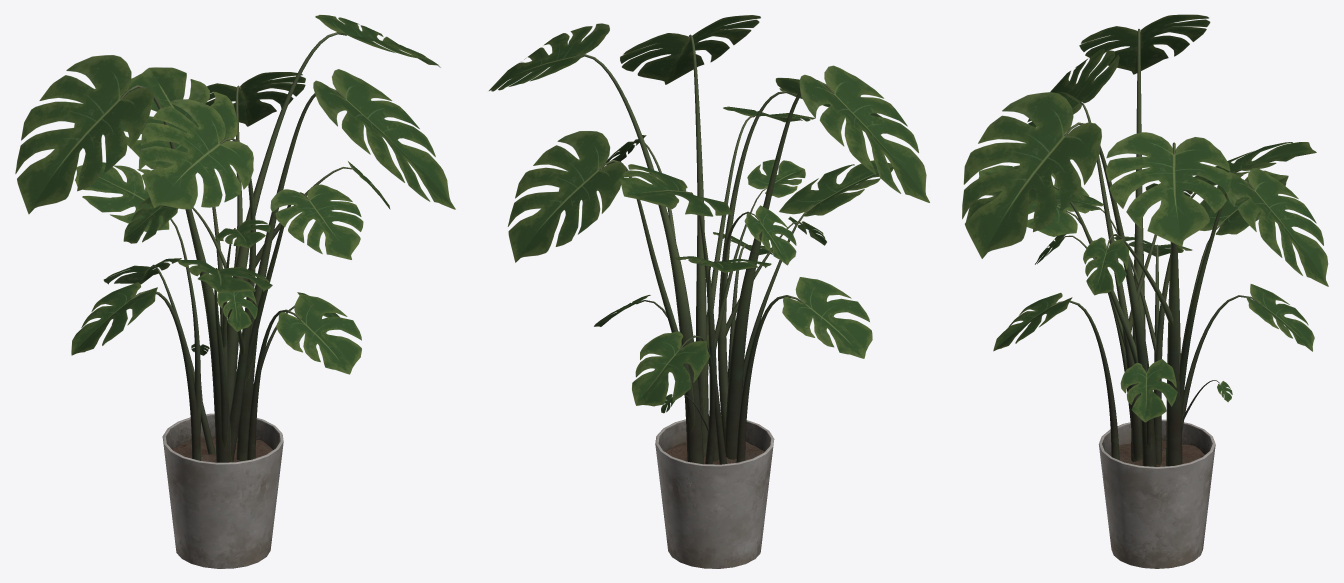
File: monstera_plant.glb
3 renders of one model, left to right at view 1: azimuth 30°, elevation 25°; view 2: azimuth 150°, elevation 25°; view 3: azimuth 270°, elevation 25°, orthographic. The views are drawn at different scales.
Visible parts, largest first — view 1: Monstera_Plant_GEO_Monstera_Leafs1_0, Monstera_Plant_GEO_Monstera_Plant_LowerPart_0; view 2: Monstera_Plant_GEO_Monstera_Leafs1_0, Monstera_Plant_GEO_Monstera_Plant_LowerPart_0; view 3: Monstera_Plant_GEO_Monstera_Leafs1_0, Monstera_Plant_GEO_Monstera_Plant_LowerPart_0.
Part boxes in pixels (box(x1,y1,x2,y2)): Monstera_Plant_GEO_Monstera_Leafs1_0: box(15, 15, 455, 374); Monstera_Plant_GEO_Monstera_Plant_LowerPart_0: box(120, 32, 355, 568); Monstera_Plant_GEO_Monstera_Leafs1_0: box(489, 15, 929, 413); Monstera_Plant_GEO_Monstera_Plant_LowerPart_0: box(575, 34, 834, 568); Monstera_Plant_GEO_Monstera_Leafs1_0: box(962, 14, 1328, 422); Monstera_Plant_GEO_Monstera_Plant_LowerPart_0: box(1050, 29, 1261, 568).
Size of the model in its own units: 1.46 by 1.66 by 1.13.
Materials: 2 (2 with a texture image).
